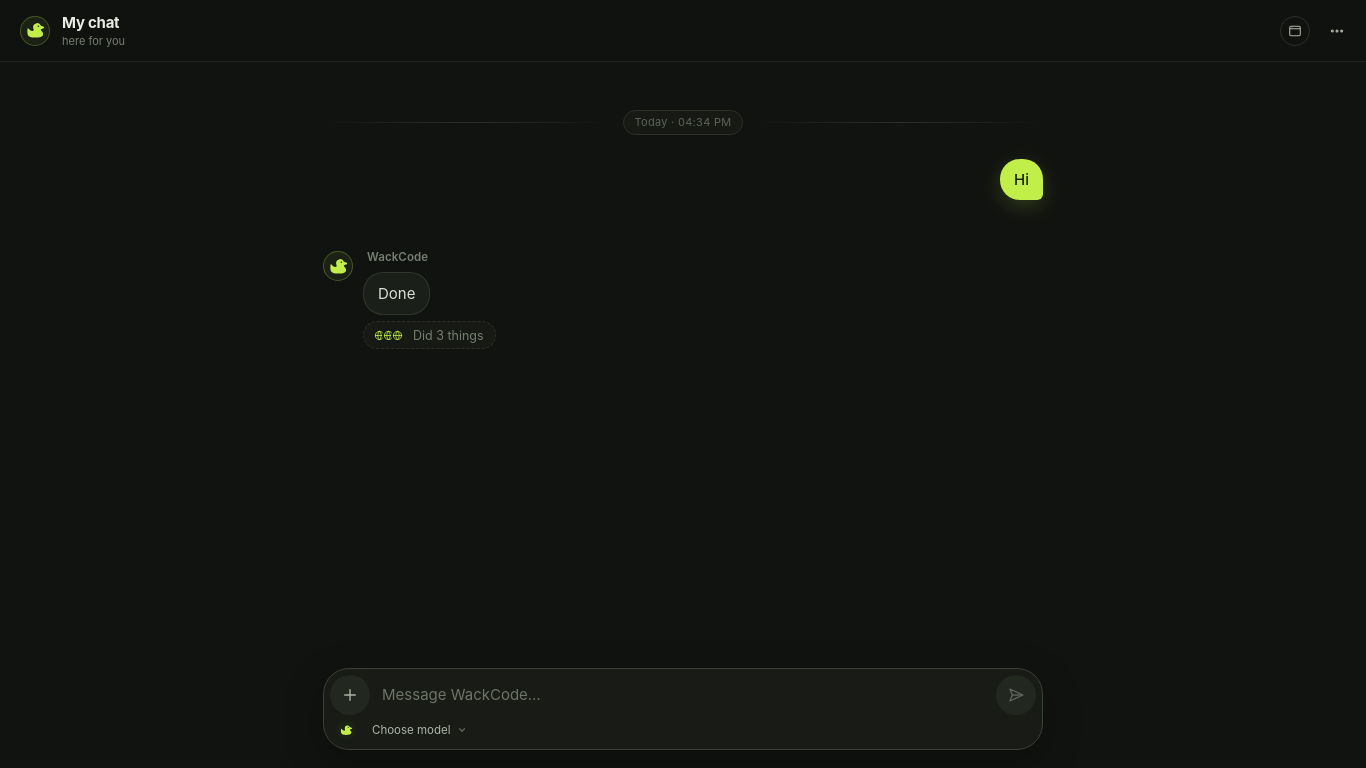
Test: ChatArea › folds three or more finished activities into a single chip
Click the button "Did 3 things" at (429, 335), box [363,321,496,349]
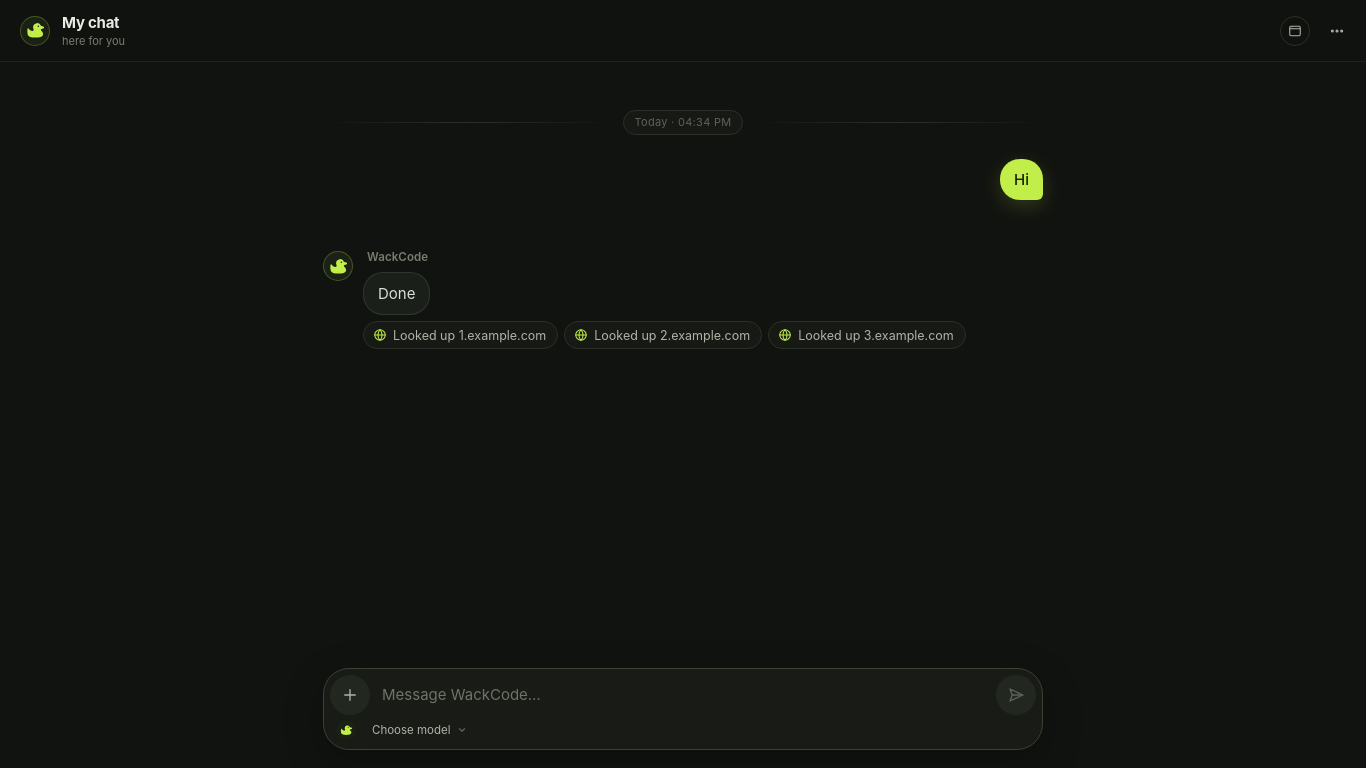
Expected: the text "Looked up 1.example.com" is shown 3 times, [393,326,546,345]; [594,326,750,345]; [798,326,954,345]
